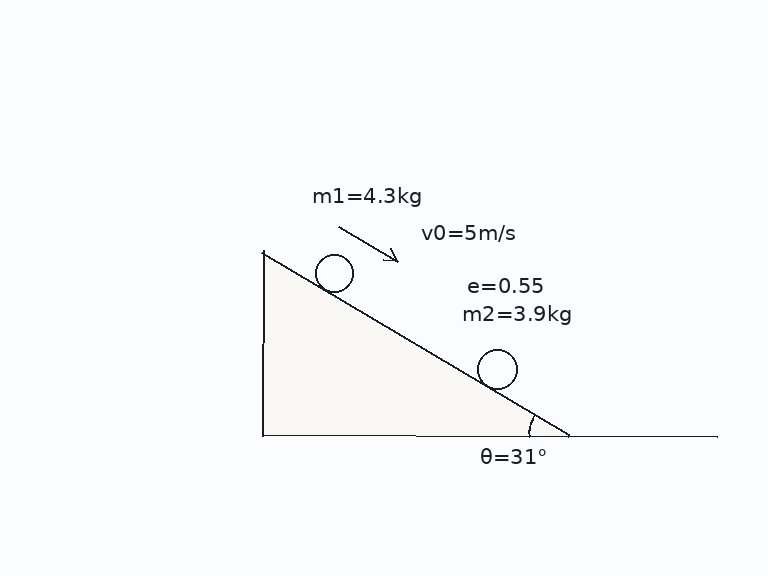ball: (475, 347, 519, 391), (313, 252, 355, 294)
ramp: (260, 250, 571, 438)
